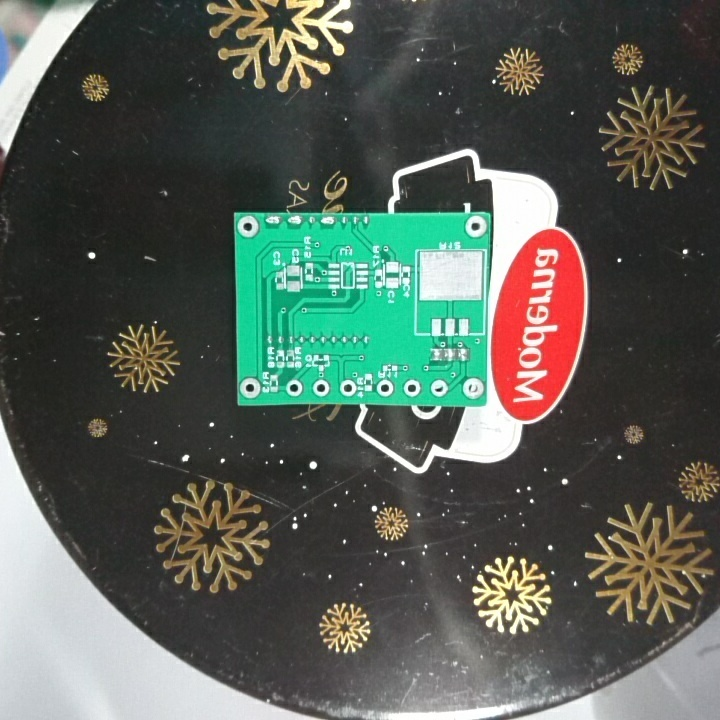F: (234, 211, 261, 239), (462, 213, 488, 239), (459, 375, 484, 402), (238, 376, 263, 402), (374, 378, 396, 400), (335, 378, 358, 399), (310, 377, 331, 398), (428, 378, 449, 399), (284, 378, 304, 400), (402, 376, 422, 398)
P: (262, 212, 282, 229), (285, 214, 305, 228), (317, 214, 337, 228)
